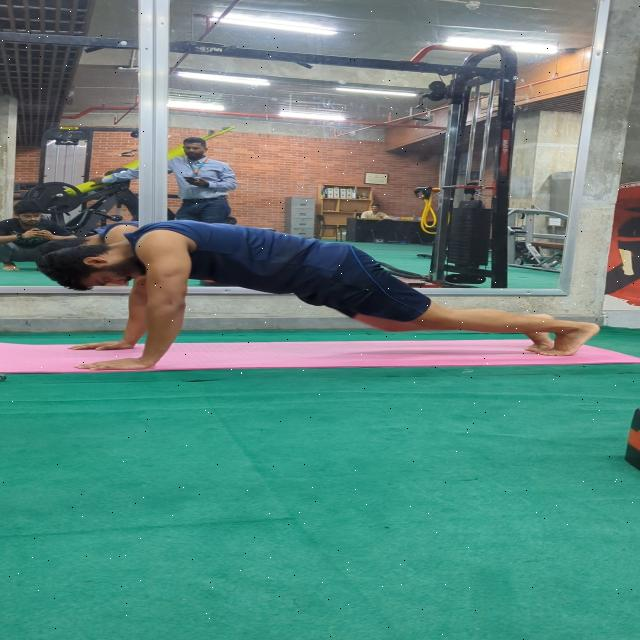Normal_MountainClimbers: (47, 203, 640, 380)
